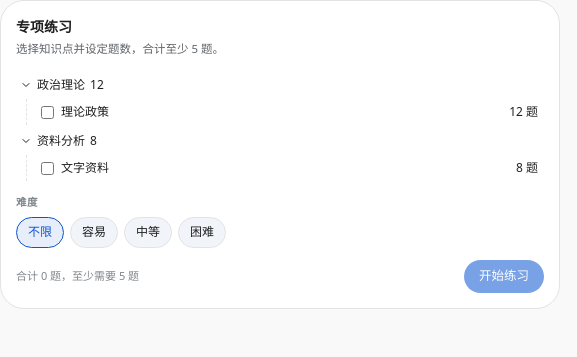
it: SpecialPicker › does not mix a material leaf with a non-material knowledge point
The image size is (577, 357).
Click the checkbox labelled "理论政策" at coordinates (48, 112), box [41,106,54,119]
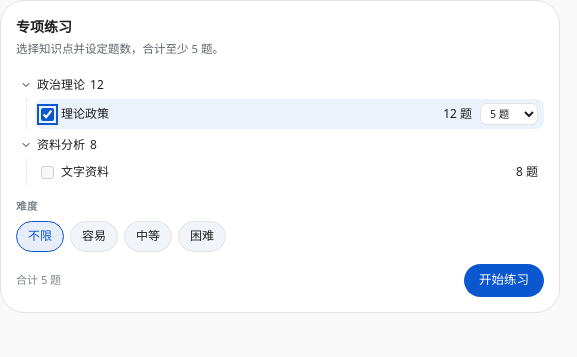
Result: the checkbox labelled "理论政策" is checked
Result: the checkbox labelled "文字资料" is disabled at [41,166,54,179]
Click the checkbox labelled "理论政策" at coordinates (48, 114), box [41,108,54,121]
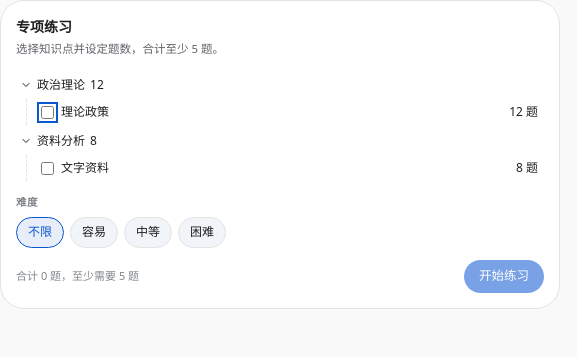
Result: the checkbox labelled "理论政策" is not checked at [41,106,54,119]
Result: the checkbox labelled "文字资料" is enabled
Click the checkbox labelled "文字资料" at coordinates (48, 168), box [41,162,54,175]
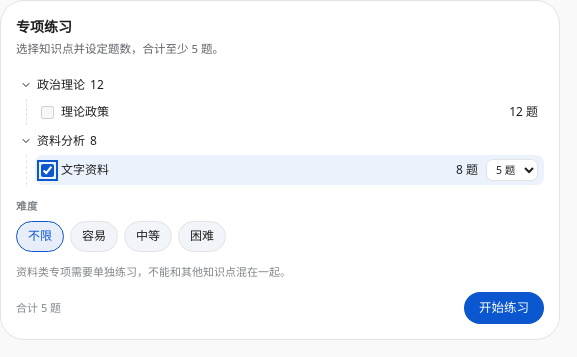
Result: the checkbox labelled "文字资料" is checked at [41,164,54,177]
Result: the checkbox labelled "理论政策" is disabled at [41,106,54,119]
